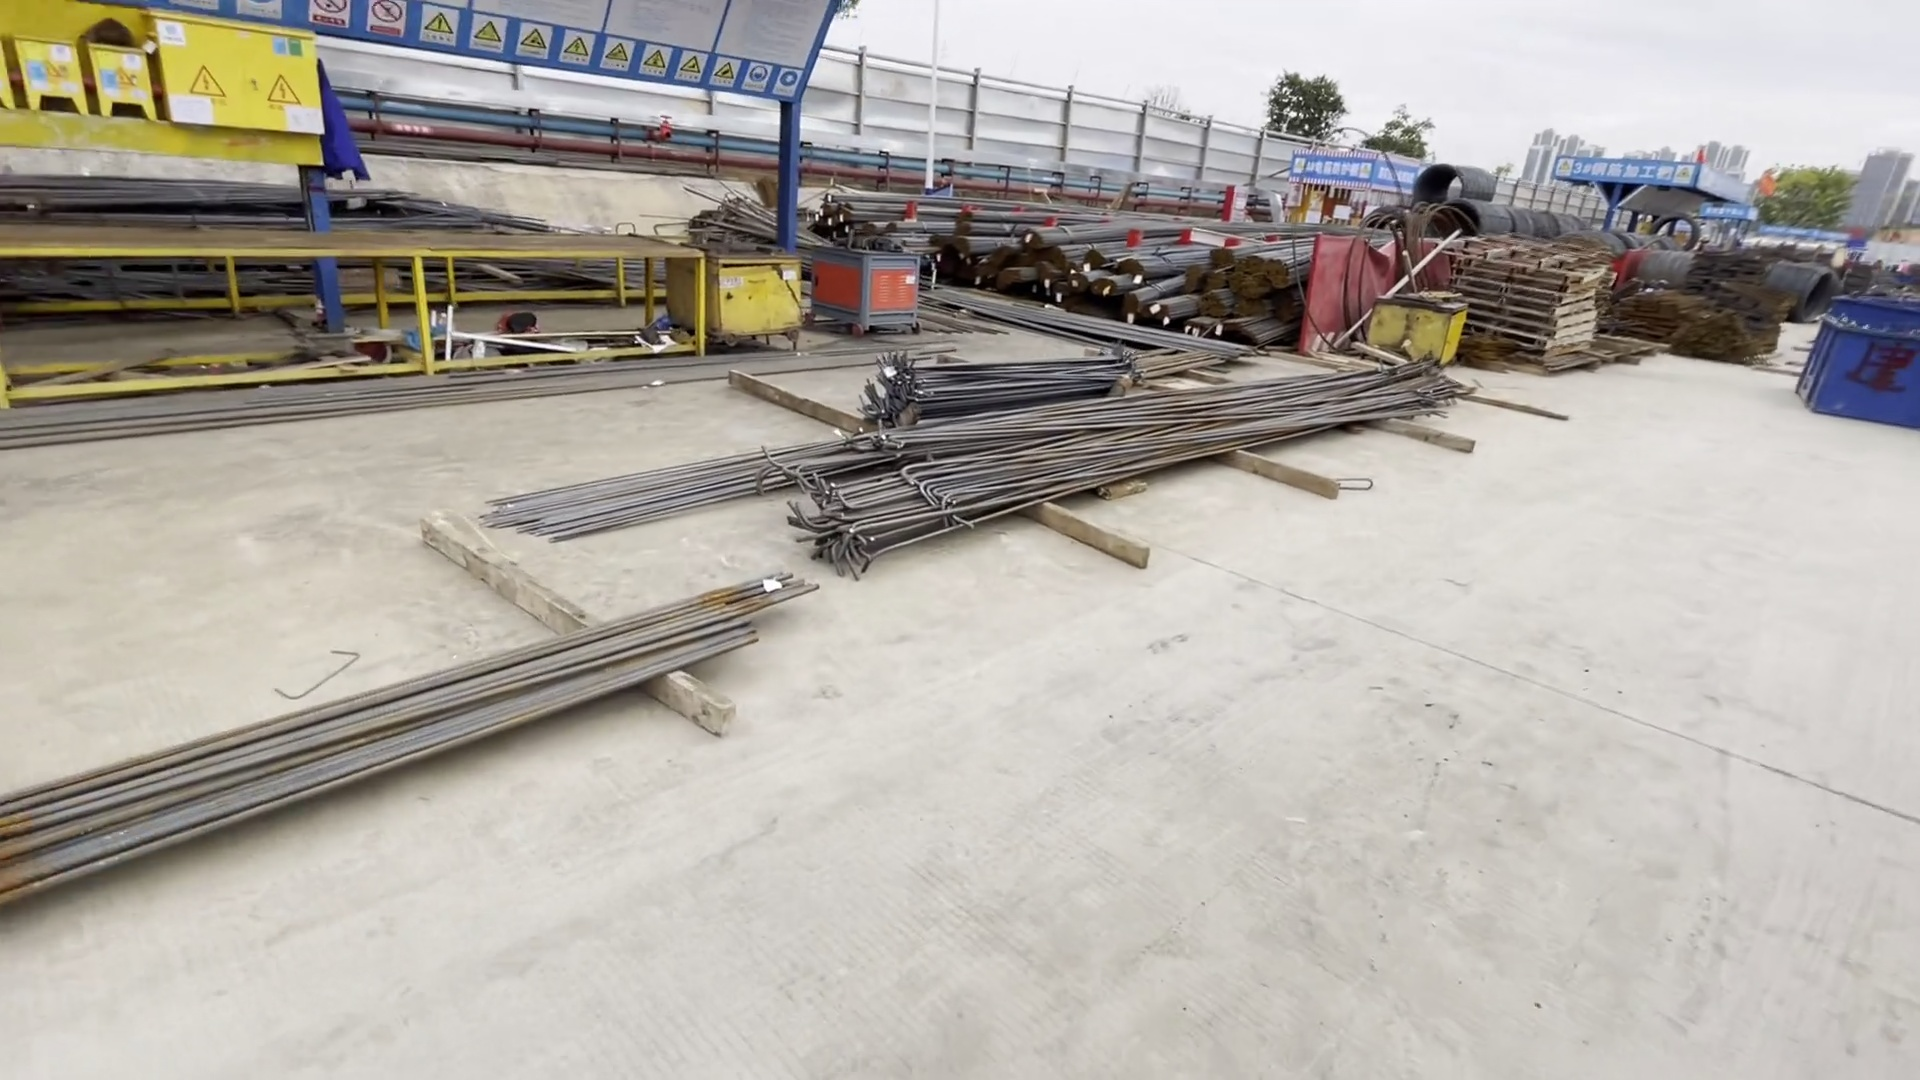ebox: (1, 12, 327, 162)
hopper: (1801, 299, 1920, 430)
rebar: (1, 349, 1474, 916), (822, 193, 1315, 361)
slogan: (323, 1, 812, 103)
